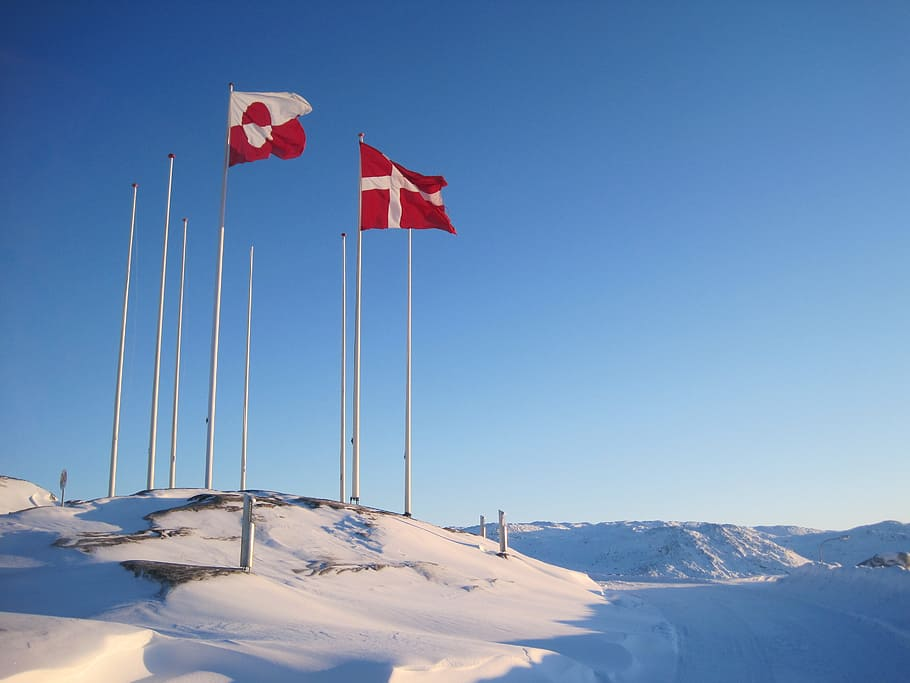Flag: (357, 140, 457, 235), (229, 88, 312, 166)
